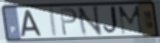A: (20, 9, 43, 38)
I: (49, 6, 59, 39)
J: (102, 5, 121, 37)
M: (117, 4, 145, 36)
N: (76, 5, 104, 38)
P: (58, 7, 79, 37)
